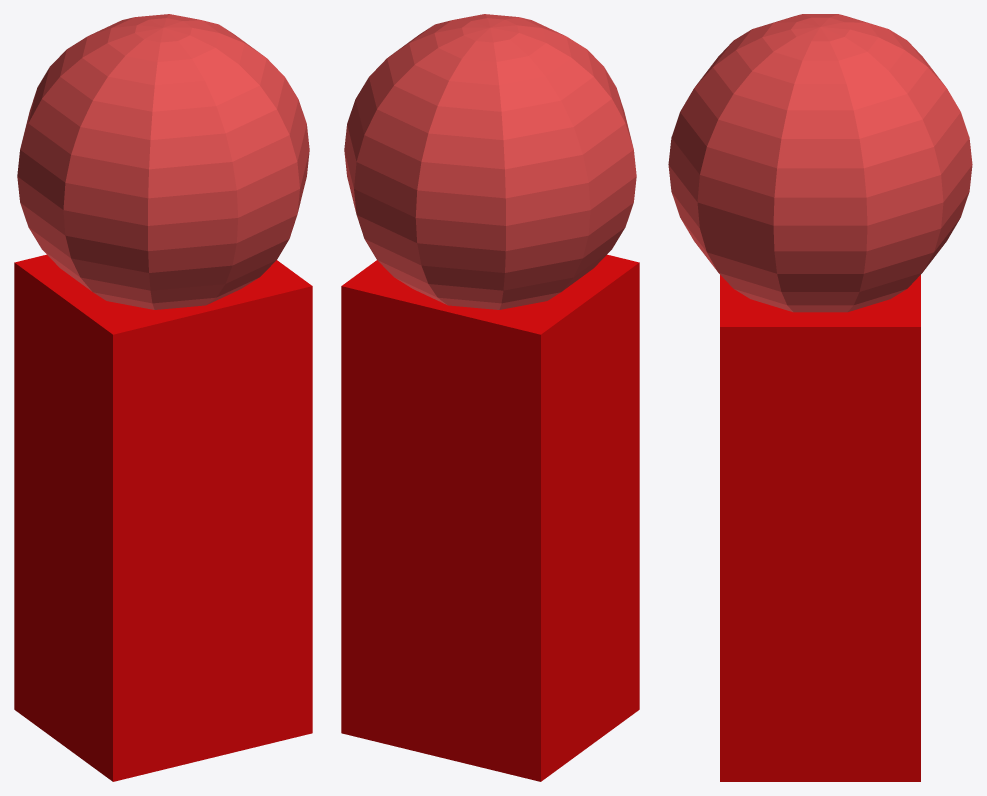
Rendered from monumento.gltf.
3 renders of one model, left to right at view 1: azimuth 30°, elevation 25°; view 2: azimuth 150°, elevation 25°; view 3: azimuth 270°, elevation 25°, orthographic.
Parts seen in each view (by area): view 1: Cube, Sphere; view 2: Cube, Sphere; view 3: Cube, Sphere.
Boxes of the visible parts, bbox=[...] form: Cube: bbox=[14, 254, 312, 781]; Sphere: bbox=[17, 14, 309, 309]; Cube: bbox=[341, 254, 639, 781]; Sphere: bbox=[344, 14, 636, 309]; Cube: bbox=[720, 275, 920, 781]; Sphere: bbox=[668, 14, 972, 312].
Bounding box in the file's own units: 0.8642 × 2.33 × 0.9087.
